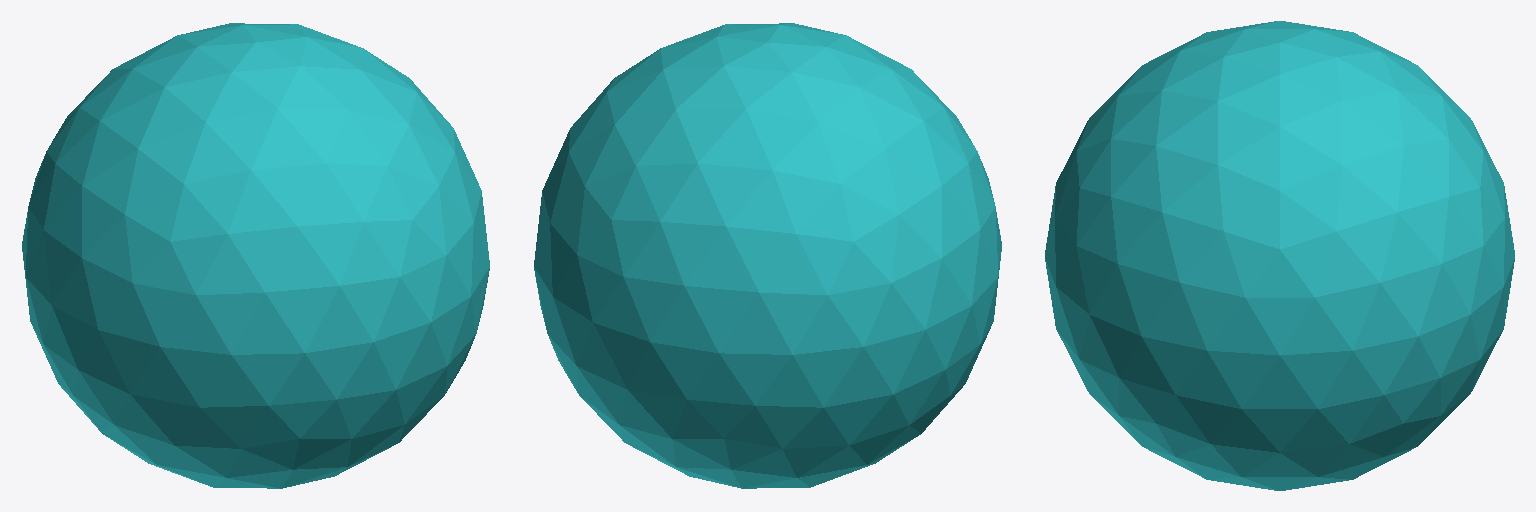
Rendered from bounding_sphere.obj.
3 renders of one model, left to right at view 1: azimuth 30°, elevation 25°; view 2: azimuth 150°, elevation 25°; view 3: azimuth 270°, elevation 25°, orthographic.
Visible parts, largest first — view 1: bounding_sphere; view 2: bounding_sphere; view 3: bounding_sphere.
Part boxes in pixels (x1,y1,x2,y2): bounding_sphere: (22, 23, 489, 488); bounding_sphere: (534, 23, 1001, 488); bounding_sphere: (1045, 21, 1514, 490).
Bounding box in the file's own units: 2 × 2 × 2.